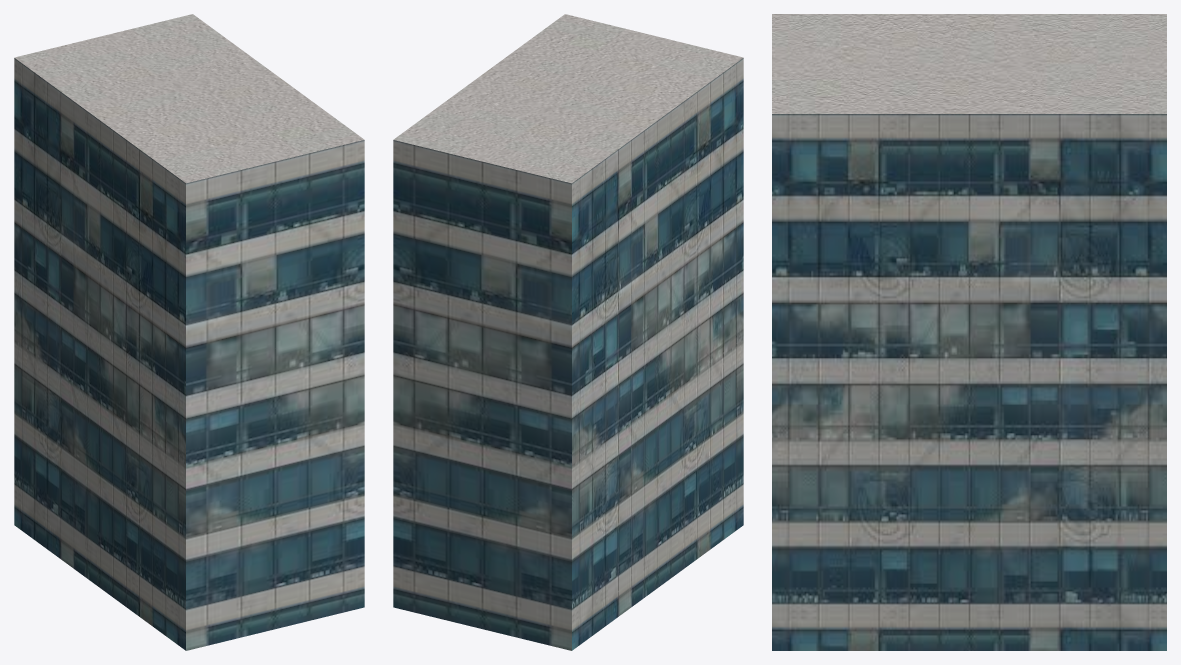
File: building_036.fbx
3 views of the same model, side by side, from view 1: azimuth 30°, elevation 25°; view 2: azimuth 150°, elevation 25°; view 3: azimuth 270°, elevation 25° (orthographic). The views are drawn at different scales.
Visible parts, largest first — view 1: building_036; view 2: building_036; view 3: building_036.
Part boxes in pixels (box(x1,y1,x2,y2)): building_036: box(14, 14, 364, 650); building_036: box(393, 14, 743, 650); building_036: box(772, 14, 1166, 650).
Size of the model in its own units: 600 by 1500 by 1000.
